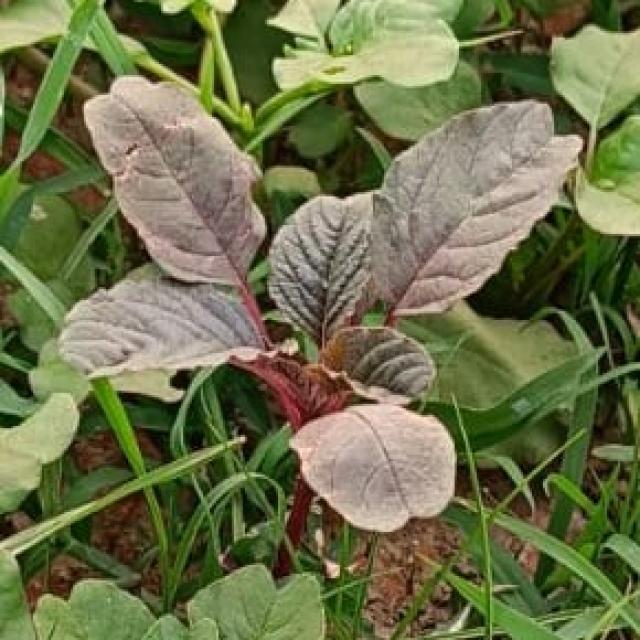plant: (59, 76, 581, 531)
weed: (60, 76, 580, 531)
